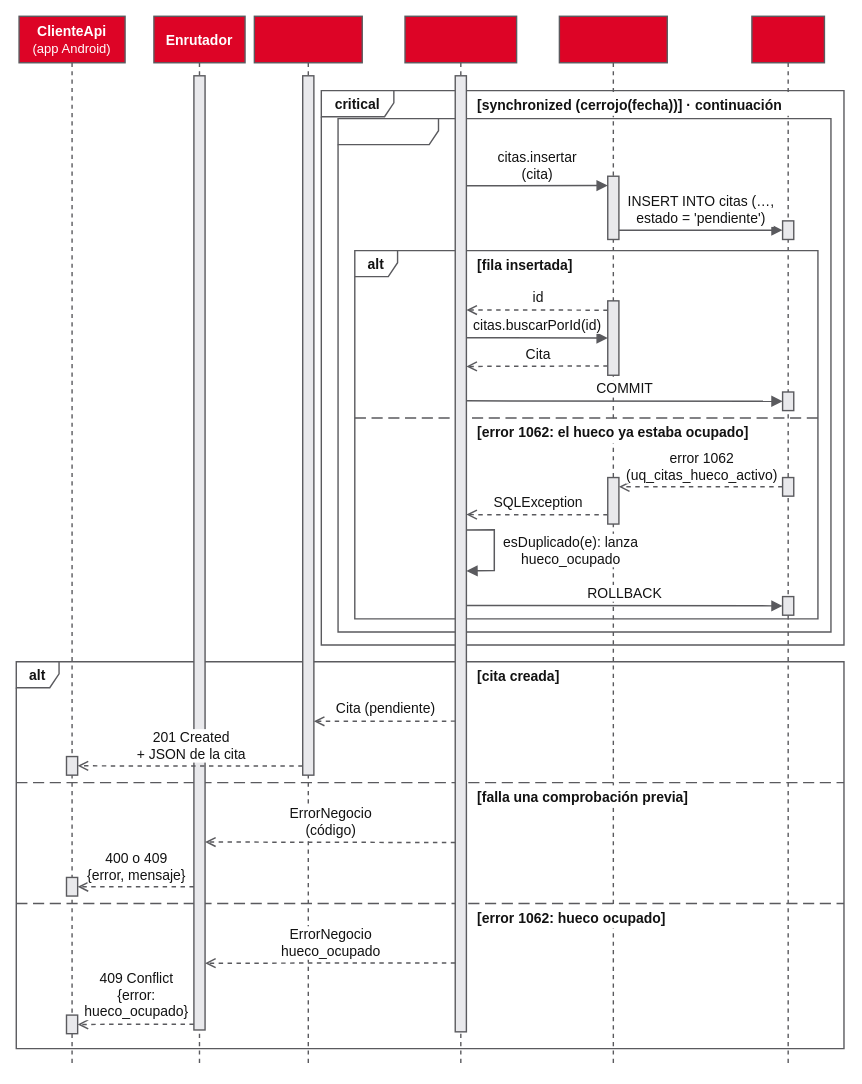
Some shapes in this 862 by 1084 pixel diagram are drawn without their labels. The box of each missing label's shape, as (x1, y1, x2, y2) in pixels:
MySQL: (751, 15, 825, 1067)
Repositorios (JDBC): (558, 15, 668, 1067)
RutasCliente: (253, 15, 363, 1067)
ServicioCitas: (404, 15, 517, 1067)
transacción: (337, 117, 831, 632)
